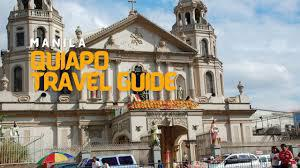quiapo_church_quiapo_manila: (1, 1, 236, 168)
